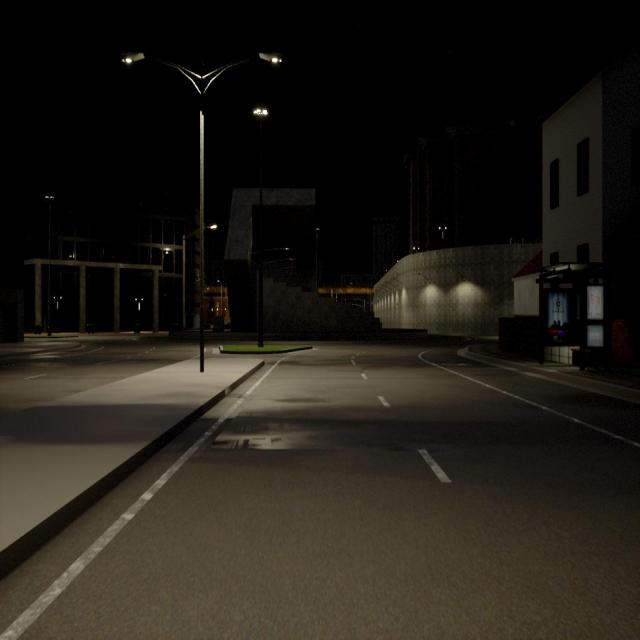traffic_light: (354, 298, 356, 302), (344, 299, 346, 301)
